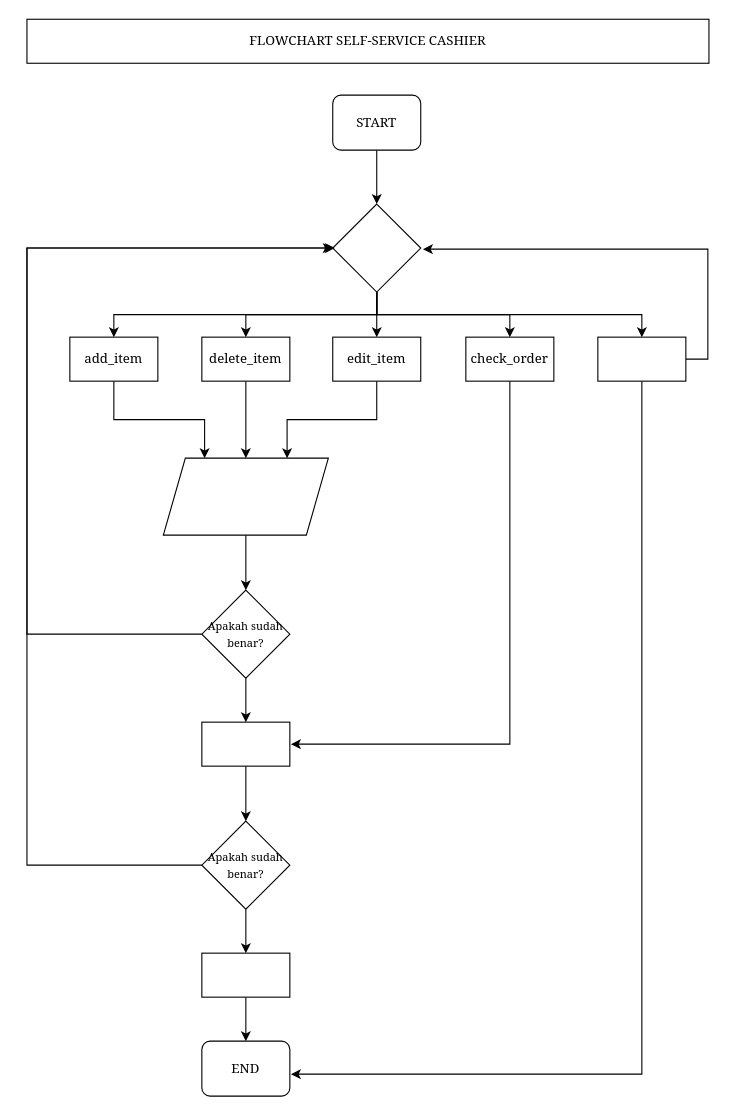
Some shapes in this 736 by 1115 pixel diagram are drawn without their labels. The centre of each missing label's shape, as x and y in pixels:
"Apakah akan transaksi?" goes at point 376,247.
"input nama_item, jumlah_item, harga_item" goes at point 245,496.
"list belanja" goes at point 245,743.
"reset_trsction" goes at point 641,358.
"total_price" goes at point 245,974.
